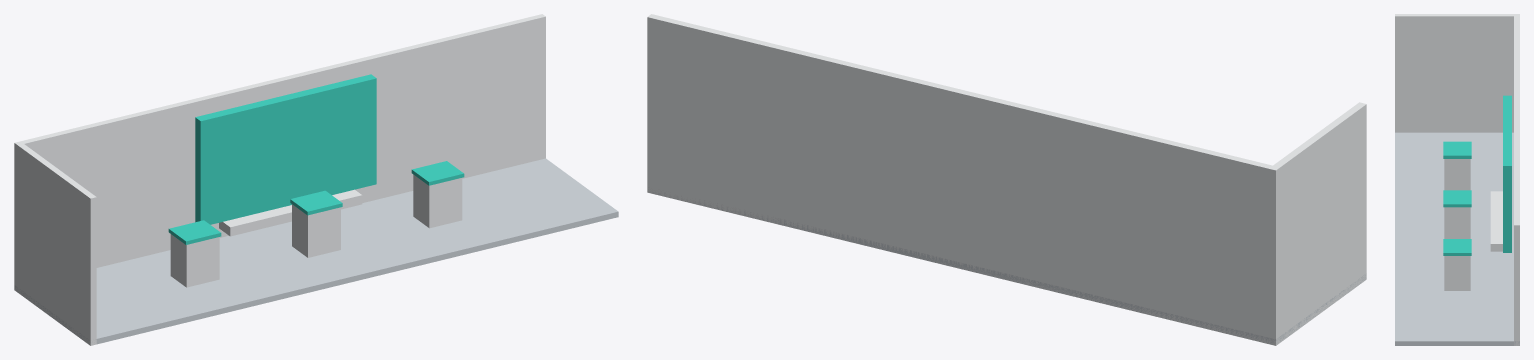
The picture shows the model from 3 angles, left to right: view 1: azimuth 30°, elevation 25°; view 2: azimuth 150°, elevation 25°; view 3: azimuth 270°, elevation 25°; orthographic projection. The views are drawn at different scales.
Visible parts, largest first — view 1: Exhibition Booth Concept; view 2: Exhibition Booth Concept; view 3: Exhibition Booth Concept.
Boxes of the visible parts, <box> form: Exhibition Booth Concept: <box>14,14,618,345</box>; Exhibition Booth Concept: <box>647,14,1366,345</box>; Exhibition Booth Concept: <box>1395,14,1519,345</box>.
Size of the model in its own units: 12 by 3.2 by 3.
